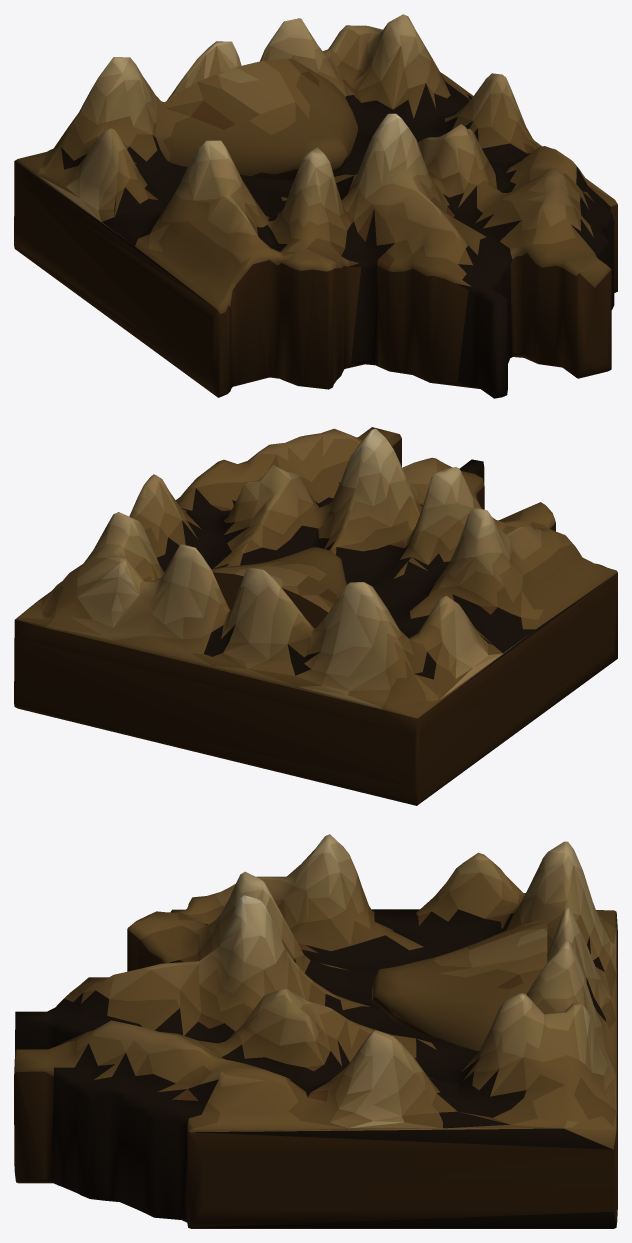
The model's file is ixm_maw_11.glb.
3 renders of one model, top to bottom at view 1: azimuth 30°, elevation 25°; view 2: azimuth 150°, elevation 25°; view 3: azimuth 270°, elevation 25°, orthographic. The views are drawn at different scales.
Visible parts, largest first — view 1: ixm_maw_11; view 2: ixm_maw_11; view 3: ixm_maw_11.
Boxes of the visible parts, x1,y1,x2,y2 form: ixm_maw_11: [14, 14, 617, 398]; ixm_maw_11: [14, 427, 617, 805]; ixm_maw_11: [14, 834, 617, 1228].
Bounding box in the file's own units: 24.14 × 11.78 × 27.95.
